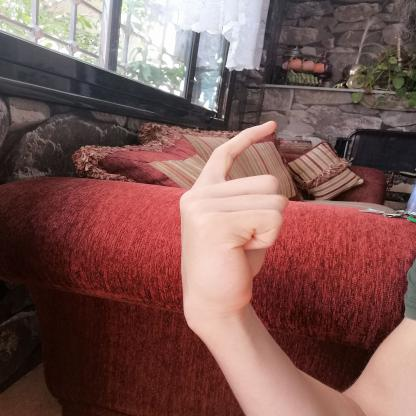RAA: (164, 111, 298, 323)
